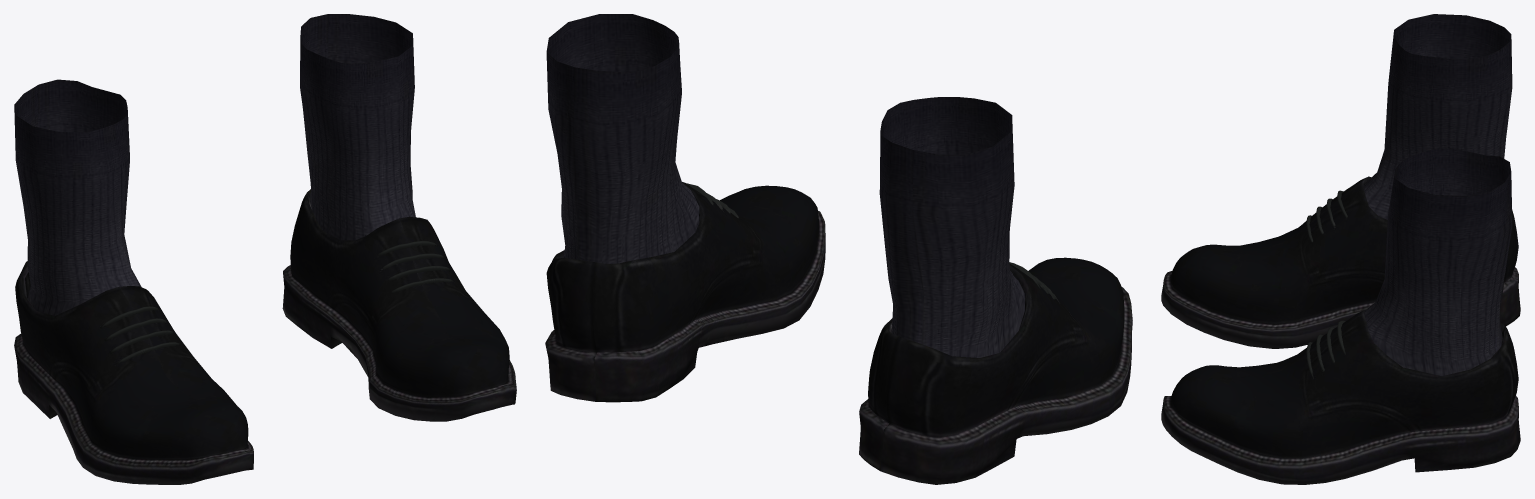
Rendered from shoes_black_boots.gltf.
3 views of the same model, side by side, from view 1: azimuth 30°, elevation 25°; view 2: azimuth 150°, elevation 25°; view 3: azimuth 270°, elevation 25° (orthographic). The views are drawn at different scales.
Visible parts, largest first — view 1: shoes_black_boots; view 2: shoes_black_boots; view 3: shoes_black_boots.
Part boxes in pixels (x1,y1,x2,y2): shoes_black_boots: (14, 14, 516, 484); shoes_black_boots: (545, 14, 1132, 484); shoes_black_boots: (1161, 14, 1520, 484).
Bounding box in the file's own units: 0.357 × 0.2406 × 0.2754.
1 material, 1 textured.
